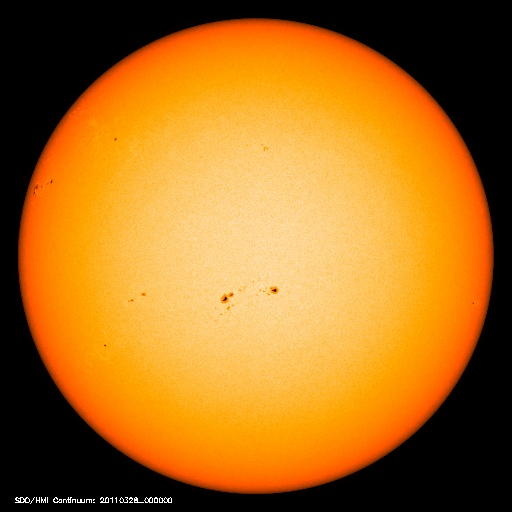sunspot: (208, 274, 283, 321), (26, 172, 60, 205), (123, 285, 156, 311), (251, 135, 278, 161), (102, 130, 126, 150), (94, 335, 117, 355)
